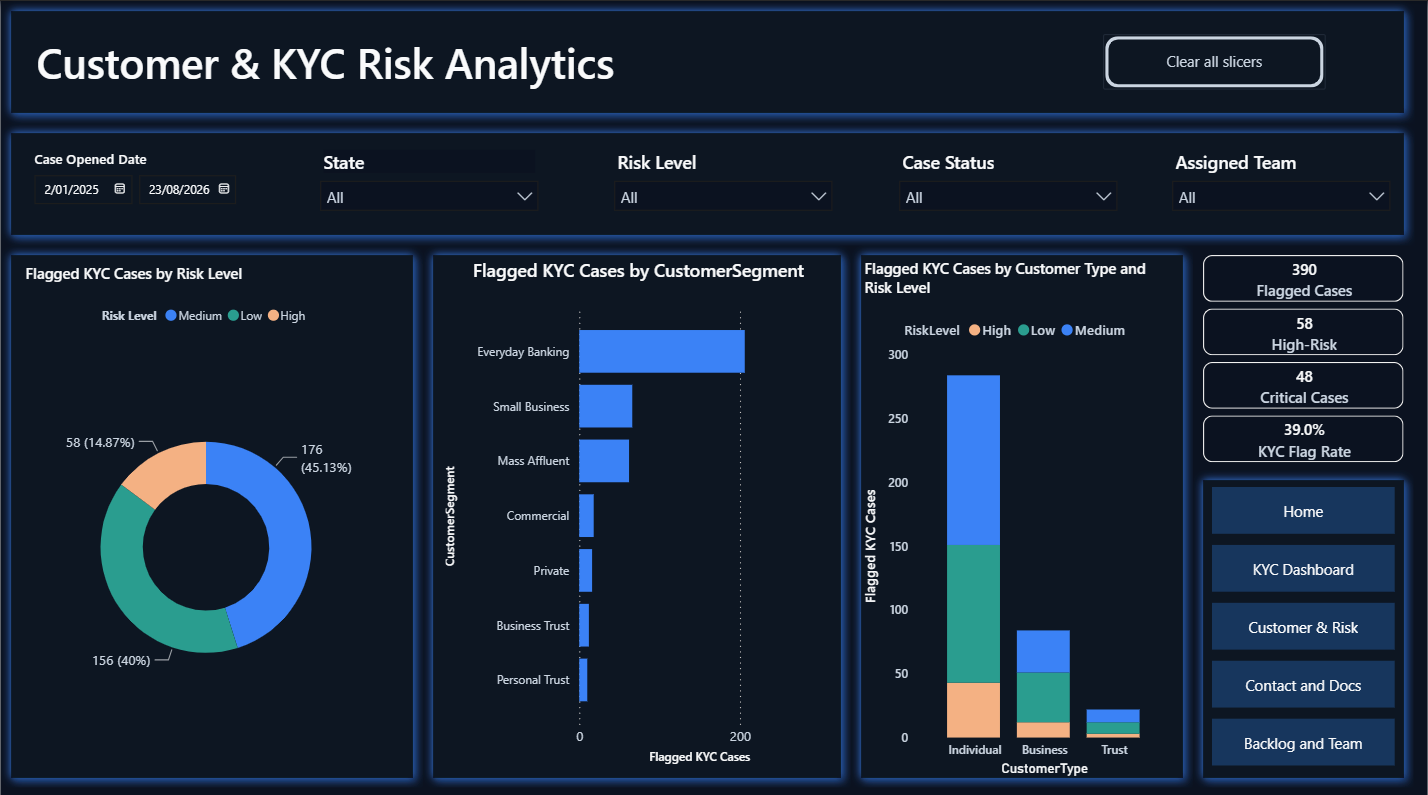

The dashboard page shown, as its layout file describes it:
{"tool":"powerbi","page":{"name":"Customer & Risk","canvas":[1280,720],"ordinal":2},"visuals":[{"type":"shape","box":[763.1,219.1,307,487.5],"z":0},{"type":"shape","box":[378.9,219.1,384.2,487.5],"z":1000},{"type":"shape","box":[0,219.1,378.9,487.5],"z":2000},{"type":"shape","box":[0,0,1268.5,109.5],"z":3000},{"type":"shape","box":[0,109.5,1268.5,109.5],"z":4000},{"type":"textbox","box":[26.8,24.9,1162.6,78.1],"z":5000},{"type":"slicer","fields":{"Values":["DimDate.DateLabel"]},"box":[17.1,128.4,216.4,71.8],"z":6000},{"type":"slicer","fields":{"Values":["DimCustomer.State"]},"box":[276.5,128.4,216.4,71.8],"z":7000},{"type":"slicer","fields":{"Values":["DimCustomer.RiskLevel"]},"box":[540.4,128.4,216.4,71.8],"z":8000},{"type":"slicer","fields":{"Values":["DimCaseStatus.CaseStatus"]},"box":[796.3,128.4,216.4,71.8],"z":9000},{"type":"slicer","fields":{"Values":["DimTeam.AssignedTeam"]},"box":[1041.4,128.4,216.4,71.8],"z":10000},{"type":"clusteredBarChart","fields":{"Category":["DimCustomer.CustomerSegment"],"Y":["FactKYCCase.Flagged KYC Cases"]},"box":[394.1,230.7,356.4,459.7],"z":11000},{"type":"donutChart","fields":{"Category":["DimCustomer.RiskLevel"],"Y":["FactKYCCase.Flagged KYC Cases"]},"box":[17.1,235.2,334,455.2],"z":12000},{"type":"columnChart","title":"Flagged KYC Cases by Customer Type and Risk Level","fields":{"Category":["DimCustomer.CustomerType"],"Series":["DimCustomer.RiskLevel"],"Y":["FactKYCCase.Flagged KYC Cases"]},"box":[770.3,230.7,284.6,469.5],"z":13000},{"type":"shape","box":[1070.1,421,198.4,285.5],"z":14000},{"type":"pageNavigator","box":[1087.2,436.3,164.3,255],"z":15000},{"type":"cardVisual","fields":{"Data":["FactKYCCase.Flagged KYC Cases","FactKYCCase.High-Risk Flagged Customers","FactKYCCase.Critical Cases","FactKYCCase.KYC Flag Rate"]},"box":[1070.1,219.1,198.4,205.6],"z":16000},{"type":"actionButton","title":"Reset Filters","box":[989,29.7,200,50],"z":16001}]}

Visuals, with their boxes in screenshot pixels (x1, y1, x2, y2), scaled from the page's 1280x720 canvas onto the 1428x795 screenshot:
shape: (851, 242, 1194, 780)
shape: (423, 242, 851, 780)
shape: (0, 242, 423, 780)
shape: (0, 0, 1415, 121)
shape: (0, 121, 1415, 242)
textbox: (30, 27, 1327, 114)
slicer - DimDate.DateLabel: (19, 142, 260, 221)
slicer - DimCustomer.State: (308, 142, 550, 221)
slicer - DimCustomer.RiskLevel: (603, 142, 844, 221)
slicer - DimCaseStatus.CaseStatus: (888, 142, 1130, 221)
slicer - DimTeam.AssignedTeam: (1162, 142, 1403, 221)
clusteredBarChart - DimCustomer.CustomerSegment x FactKYCCase.Flagged KYC Cases: (440, 255, 837, 762)
donutChart - DimCustomer.RiskLevel x FactKYCCase.Flagged KYC Cases: (19, 260, 392, 762)
"Flagged KYC Cases by Customer Type and Risk Level" columnChart: (859, 255, 1177, 773)
shape: (1194, 465, 1415, 780)
pageNavigator: (1213, 482, 1396, 763)
cardVisual - FactKYCCase.Flagged KYC Cases x FactKYCCase.High-Risk Flagged Customers: (1194, 242, 1415, 469)
"Reset Filters" actionButton: (1103, 33, 1326, 88)
